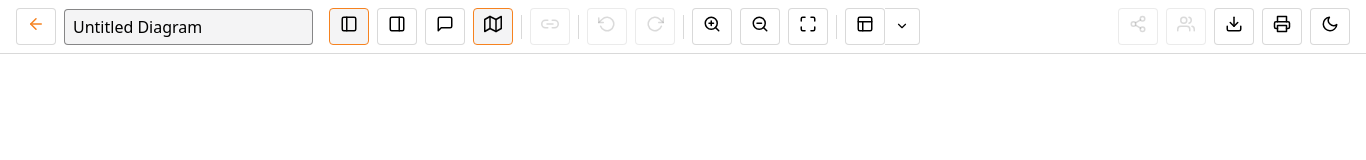
Test: Toolbar › opens the layout direction menu and re-selects top-to-bottom
Click the button named "Choose layout direction" at (902, 26), box [885,8,920,45]
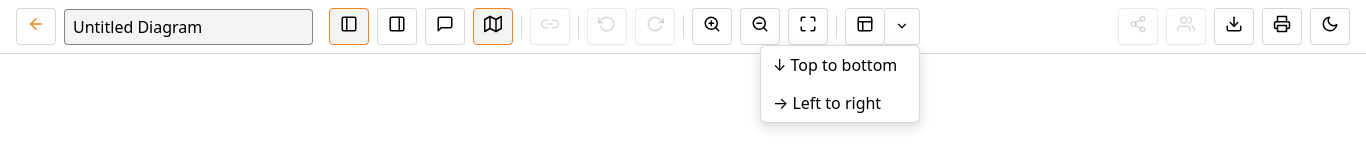
Click the menu item "↓ Top to bottom" at (840, 65), box [761,46,919,84]
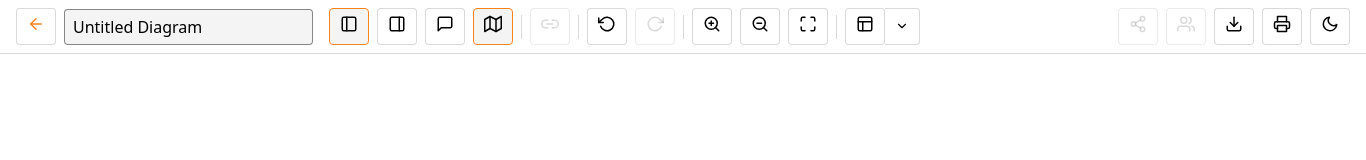
Expected: the menu item "↓ Top to bottom" is gone
